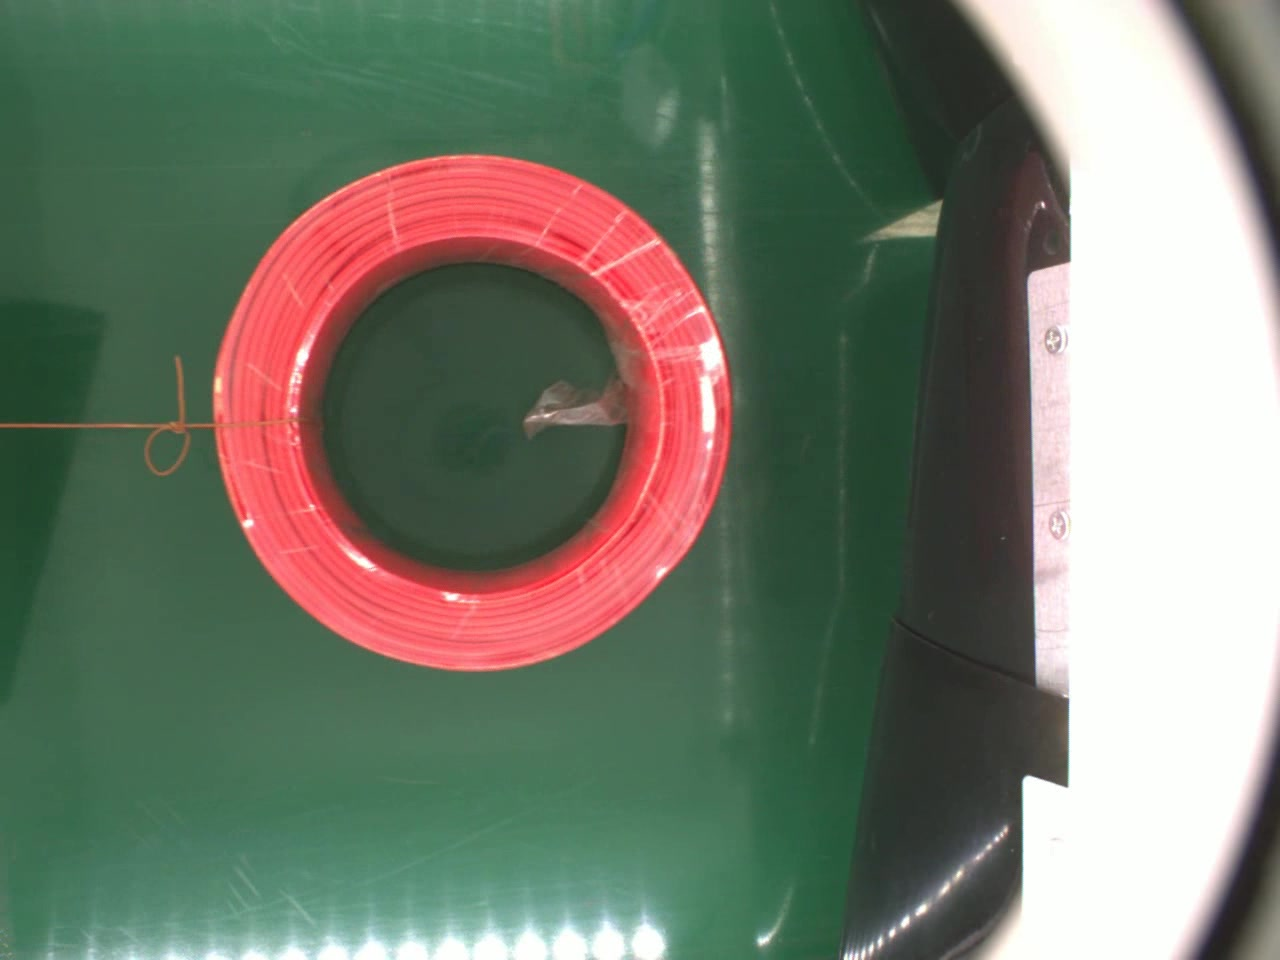red: (206, 151, 739, 678)
